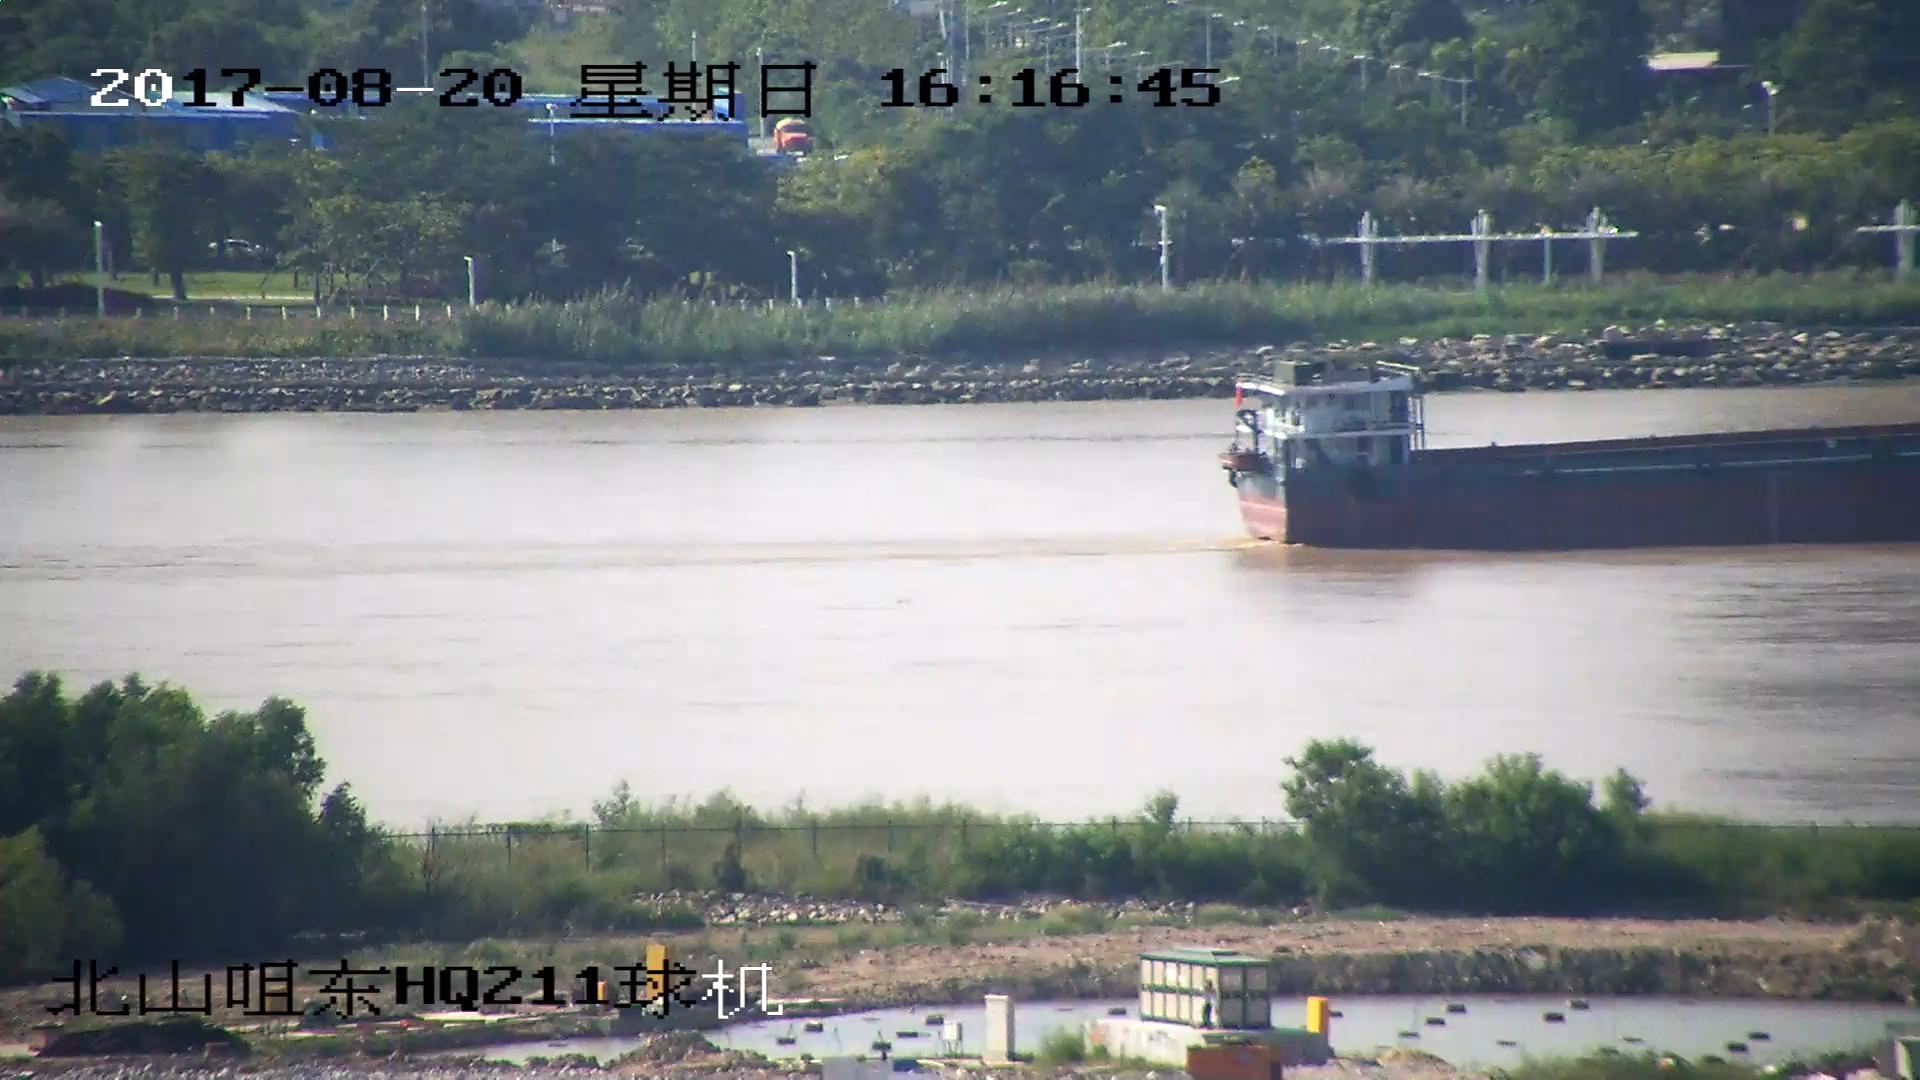Ship: (1232, 361, 1920, 554)
